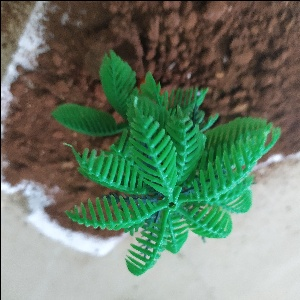plant: (48, 49, 276, 277)
